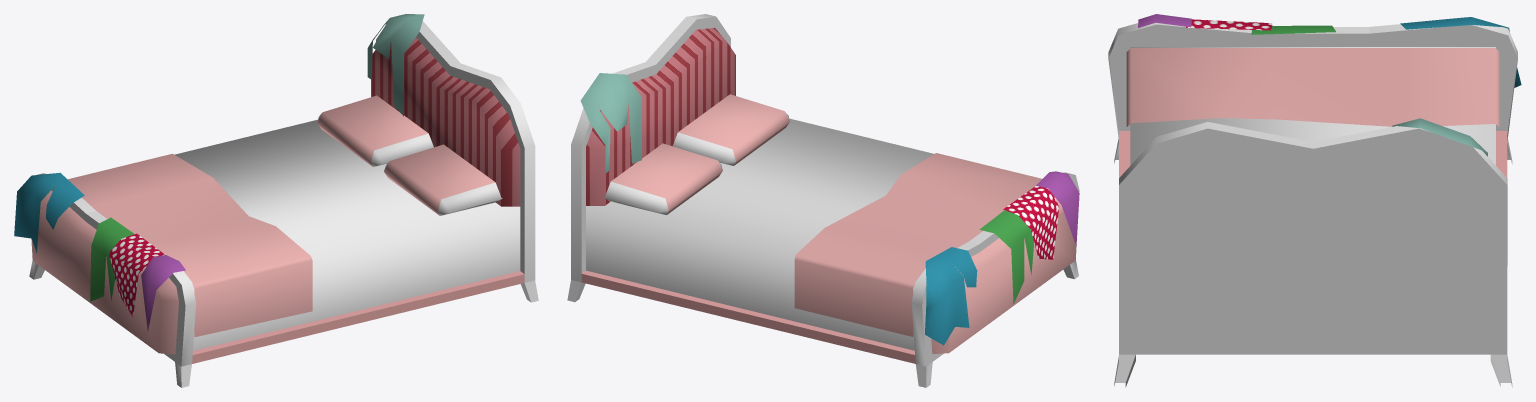
The model's file is interior_C_006.fbx.
3 renders of one model, left to right at view 1: azimuth 30°, elevation 25°; view 2: azimuth 150°, elevation 25°; view 3: azimuth 270°, elevation 25°, orthographic. The views are drawn at different scales.
Parts seen in each view (by area): view 1: interior_C_006; view 2: interior_C_006; view 3: interior_C_006.
Part boxes in pixels (x1=…): interior_C_006: x1=14, y1=14, x2=538, y2=387; interior_C_006: x1=567, y1=14, x2=1079, y2=387; interior_C_006: x1=1108, y1=14, x2=1521, y2=387.
Bounding box in the file's own units: 256 × 129 × 185.
